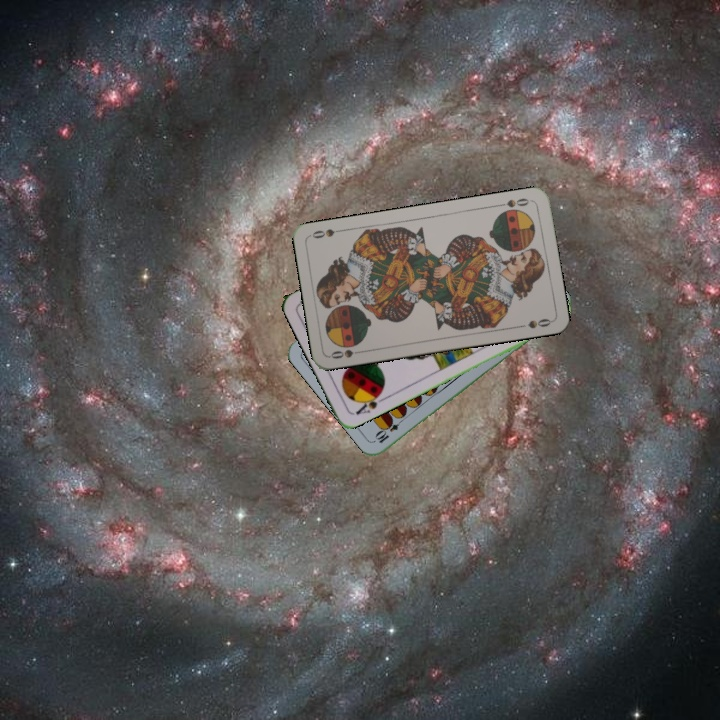E10: (371, 413, 407, 446)
SA: (351, 387, 388, 417)
SO: (326, 345, 367, 361), (493, 194, 534, 210)
